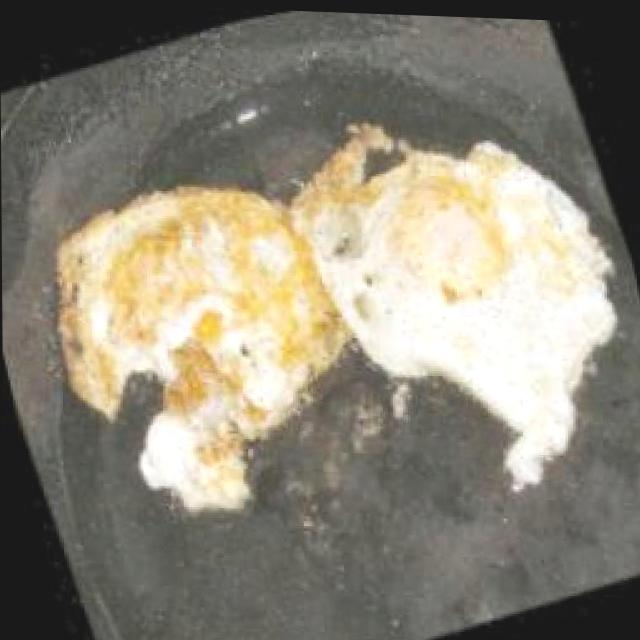fried_eggs: (10, 45, 640, 579)
